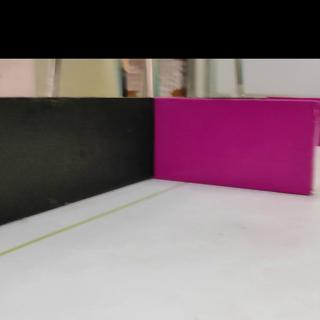xparking: (159, 97, 313, 195)
